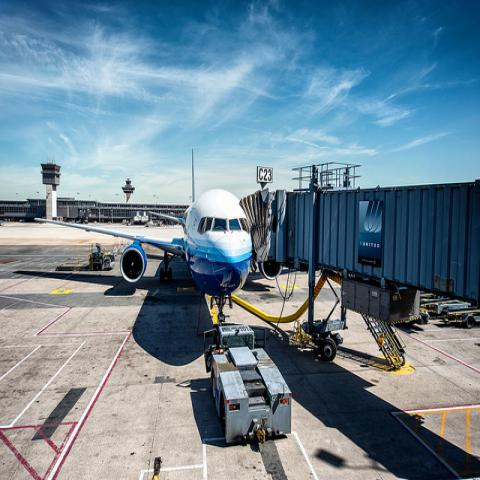truck: (204, 324, 294, 444)
